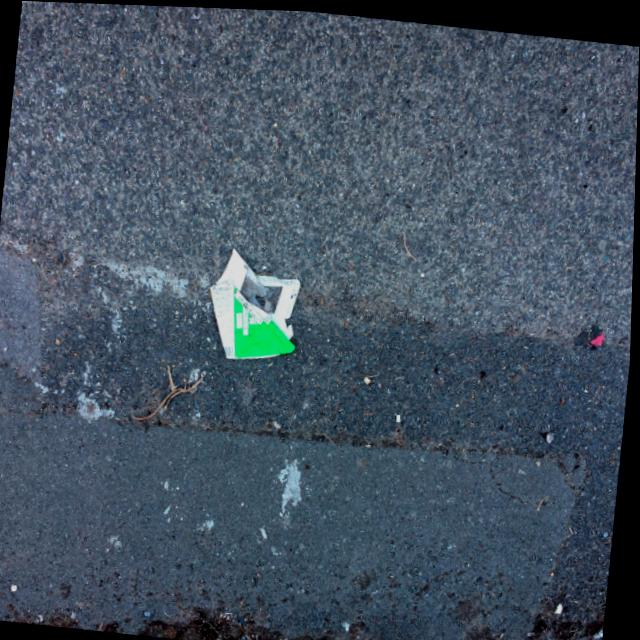Paper: (202, 237, 308, 368)
Plastic: (232, 267, 288, 316)
